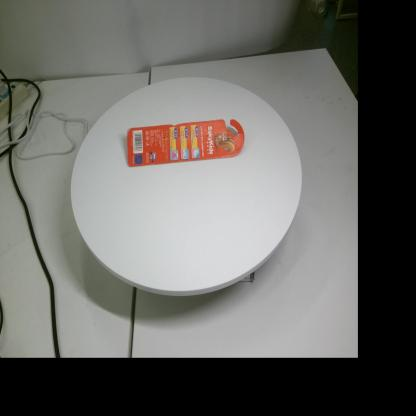Personal Hygiene: (127, 119, 244, 167)
